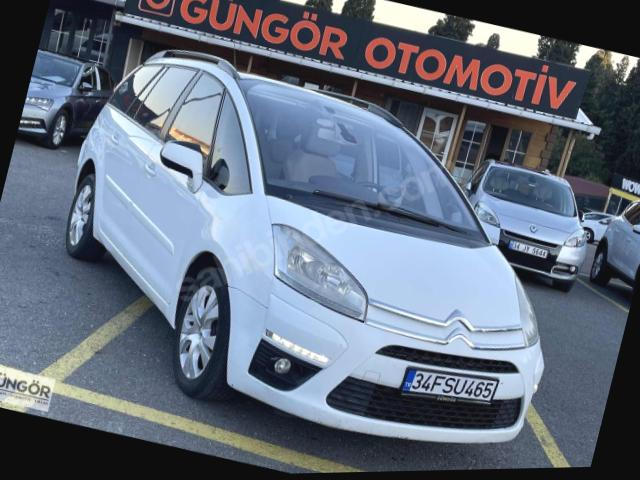plaka: (402, 369, 498, 402), (508, 240, 549, 259)
